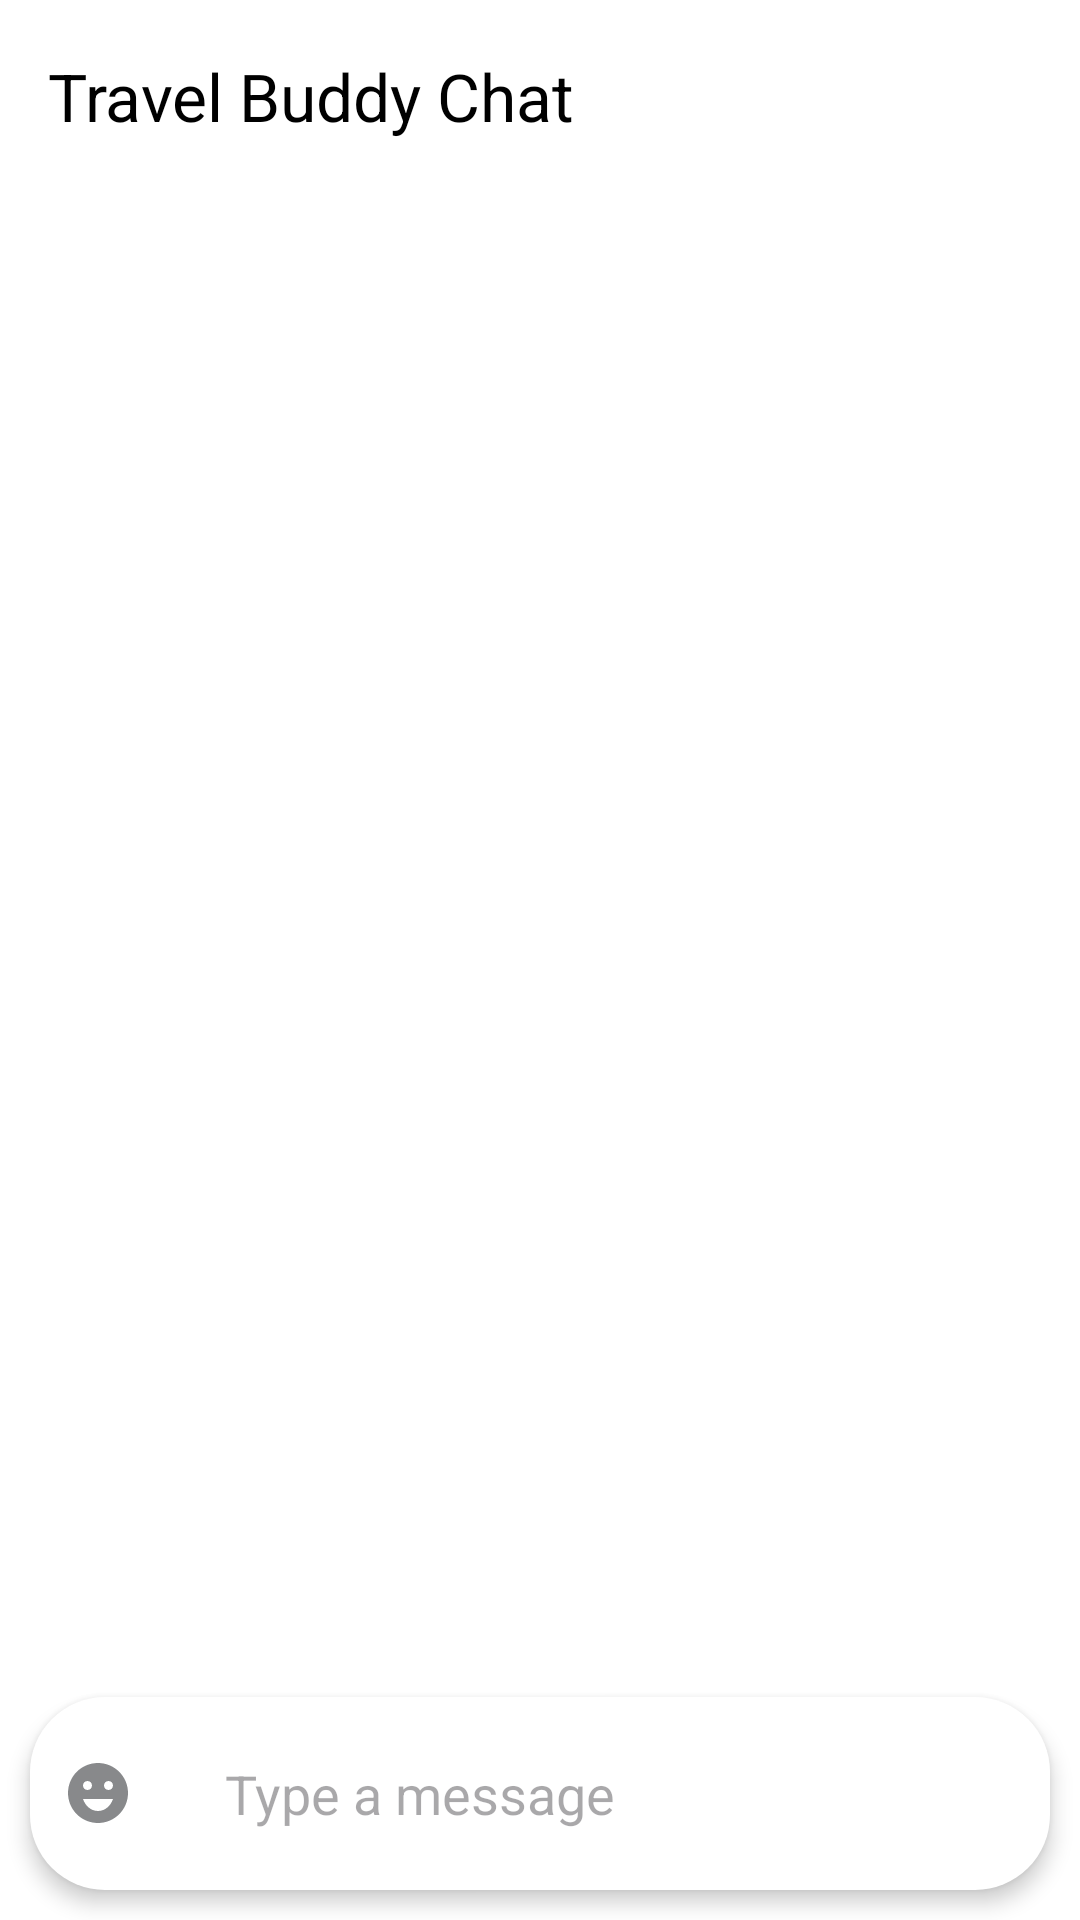

Icon bounding boxes for this 1080w x 1920h phone screenshot, format [left=x1, top=y1, right=x2, bottom=y2]:
emoji emotions: [left=68, top=1763, right=128, bottom=1823]
